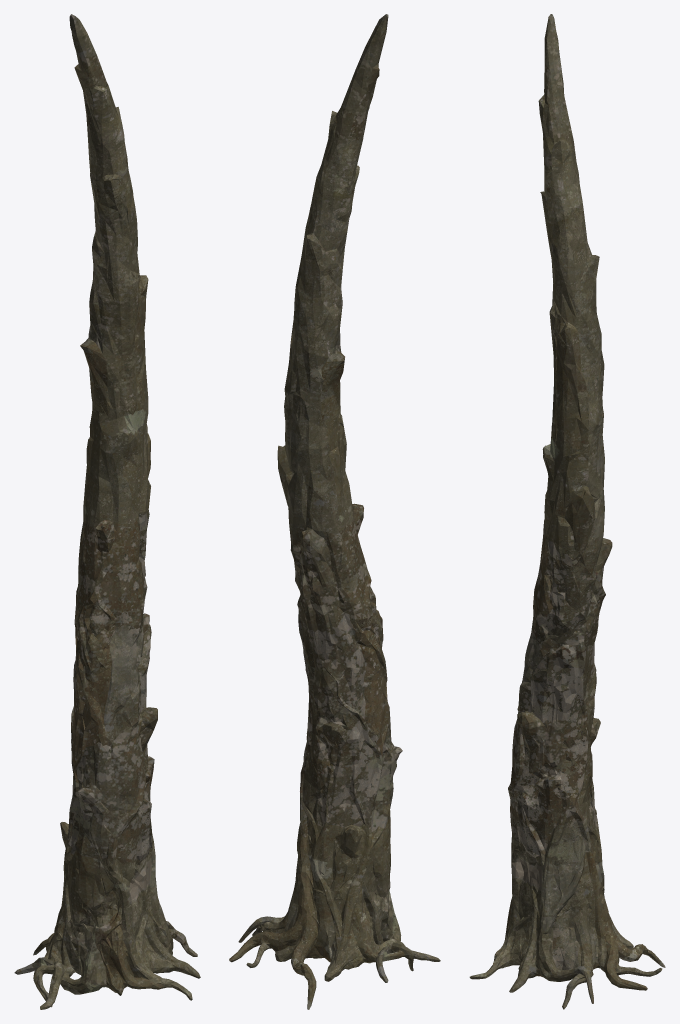
File: House26.fbx
3 renders of one model, left to right at view 1: azimuth 30°, elevation 25°; view 2: azimuth 150°, elevation 25°; view 3: azimuth 270°, elevation 25°, orthographic. The views are drawn at different scales.
Visible parts, largest first — view 1: AT_BGAgo_GiantTree_A01_10B.mo; view 2: AT_BGAgo_GiantTree_A01_10B.mo; view 3: AT_BGAgo_GiantTree_A01_10B.mo.
Part boxes in pixels (bbox=[...]): AT_BGAgo_GiantTree_A01_10B.mo: bbox=[14, 14, 200, 1009]; AT_BGAgo_GiantTree_A01_10B.mo: bbox=[229, 14, 440, 1009]; AT_BGAgo_GiantTree_A01_10B.mo: bbox=[469, 14, 665, 1009].
Size of the model in its own units: 4058 by 21802 by 4107.
